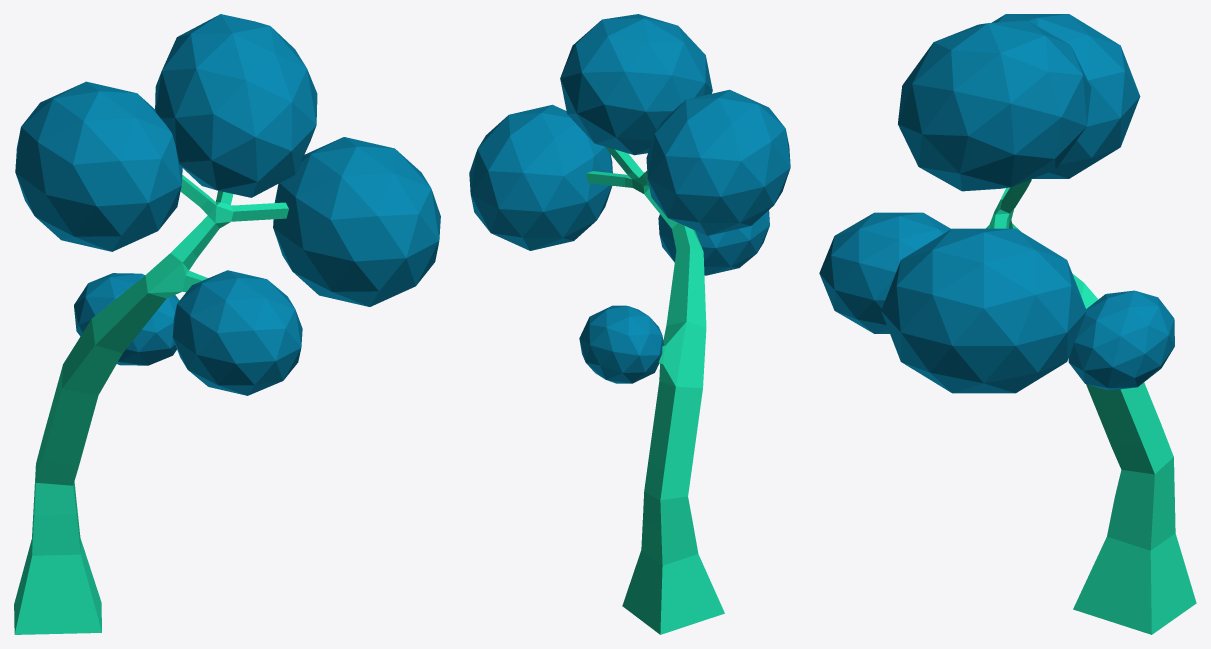
File: Tree_2.fbx
3 renders of one model, left to right at view 1: azimuth 30°, elevation 25°; view 2: azimuth 150°, elevation 25°; view 3: azimuth 270°, elevation 25°, orthographic. The views are drawn at different scales.
Visible parts, largest first — view 1: Cube, Icosphere.002, Icosphere.001, Icosphere, Icosphere.003, Icosphere.004; view 2: Cube, Icosphere.001, Icosphere, Icosphere.002, Icosphere.004, Icosphere.003; view 3: Icosphere, Icosphere.002, Cube, Icosphere.003, Icosphere.004, Icosphere.001.
Boxes of the visible parts, left/top/right/bottom form: Cube: left=14, top=175, right=288, bottom=634; Icosphere.002: left=155, top=14, right=317, bottom=197; Icosphere.001: left=15, top=81, right=182, bottom=251; Icosphere: left=273, top=137, right=440, bottom=306; Icosphere.003: left=172, top=270, right=302, bottom=395; Icosphere.004: left=74, top=273, right=179, bottom=365; Cube: left=586, top=147, right=724, bottom=634; Icosphere.001: left=646, top=89, right=790, bottom=235; Icosphere: left=469, top=104, right=612, bottom=250; Icosphere.002: left=560, top=14, right=712, bottom=155; Icosphere.004: left=579, top=305, right=663, bottom=383; Icosphere.003: left=658, top=210, right=769, bottom=275; Icosphere: left=881, top=228, right=1086, bottom=393; Icosphere.002: left=898, top=20, right=1091, bottom=191; Cube: left=986, top=179, right=1196, bottom=634; Icosphere.003: left=819, top=212, right=950, bottom=333; Icosphere.004: left=1068, top=290, right=1174, bottom=390; Icosphere.001: left=991, top=14, right=1140, bottom=178.
Bounding box in the file's own units: 571 × 909 × 486.
